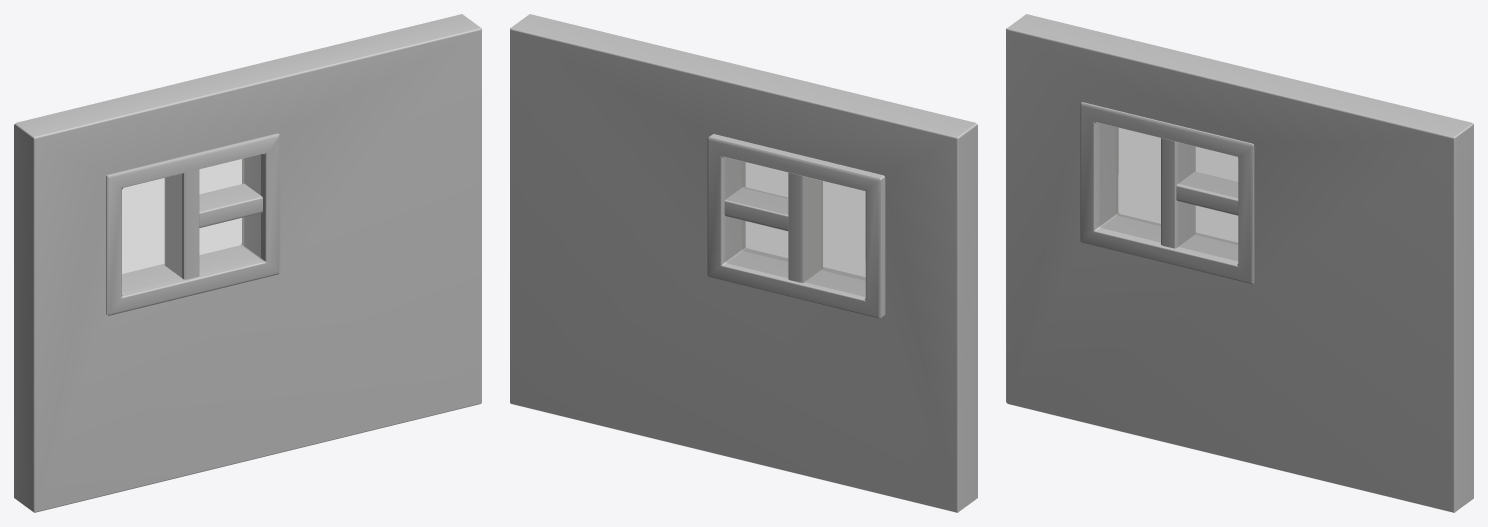
Rendered from Wall_72.fbx.
3 renders of one model, left to right at view 1: azimuth 30°, elevation 25°; view 2: azimuth 150°, elevation 25°; view 3: azimuth 330°, elevation 25°, orthographic.
Visible parts, largest first — view 1: Wall_72; view 2: Wall_72; view 3: Wall_72.
Boxes of the visible parts, x1,y1,x2,y2 form: Wall_72: (14, 14, 481, 512); Wall_72: (510, 14, 977, 512); Wall_72: (1006, 14, 1473, 512).
Bounding box in the file's own units: 500 × 400 × 47.88.
